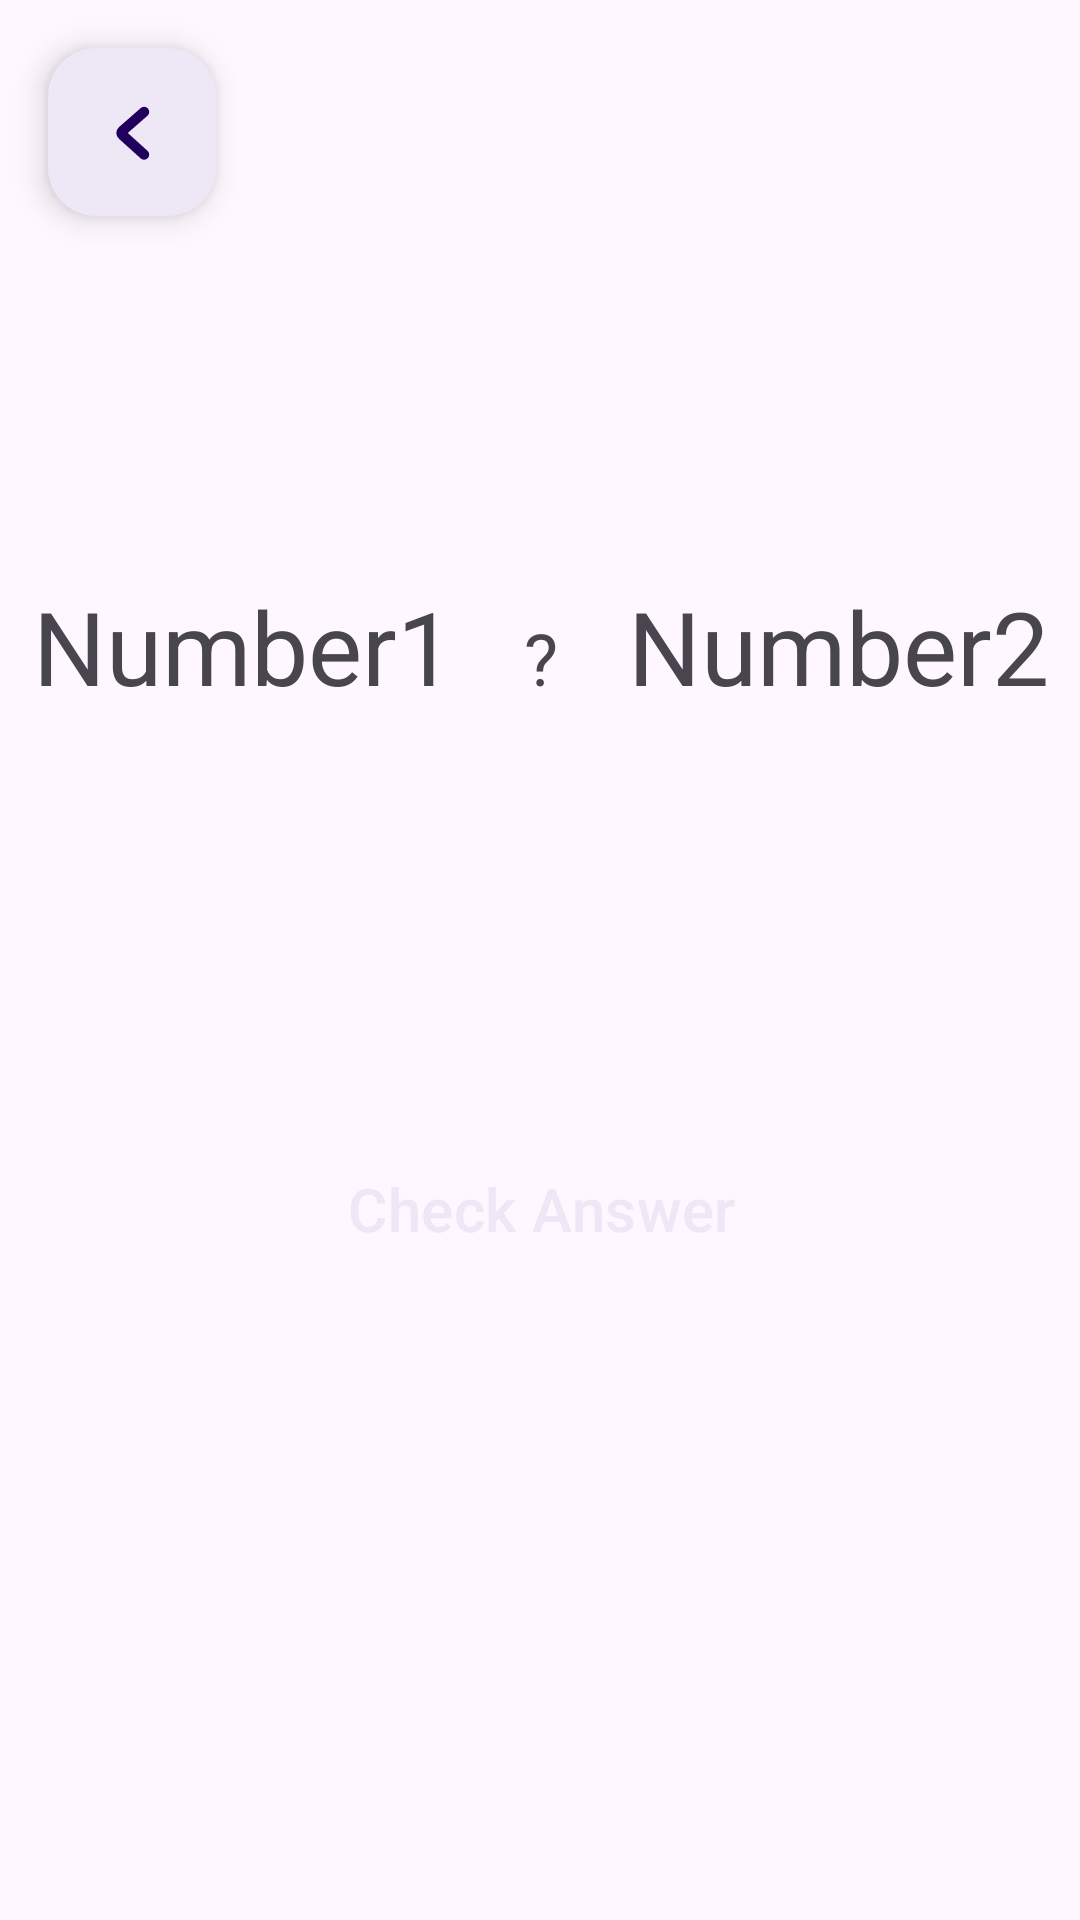

Where to tap for icons on this 1080px×1920px app screen, as (x=x, y=y):
Return to Home: (x=133, y=133)
